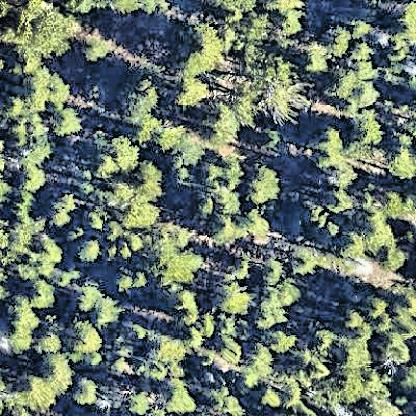tree-top: (98, 154, 172, 229), (245, 52, 303, 124), (15, 0, 80, 60), (172, 14, 226, 74), (247, 308, 291, 374), (64, 326, 105, 395), (153, 235, 206, 288), (115, 75, 163, 125), (1, 297, 43, 352), (249, 283, 296, 330), (311, 121, 353, 172), (201, 99, 245, 145), (244, 161, 286, 209), (214, 275, 258, 319), (148, 328, 192, 368), (102, 134, 143, 176), (328, 371, 386, 400), (66, 317, 106, 358), (50, 103, 90, 143), (297, 37, 335, 78), (44, 189, 81, 231), (352, 254, 394, 290), (77, 25, 117, 62), (25, 70, 66, 106), (336, 336, 376, 372), (133, 159, 166, 202), (171, 72, 209, 109), (379, 185, 416, 223), (12, 369, 47, 409), (163, 376, 199, 414), (245, 340, 277, 379), (359, 212, 391, 250), (379, 53, 409, 93), (40, 351, 74, 386), (171, 291, 200, 330), (393, 0, 416, 48), (390, 142, 416, 184), (208, 0, 262, 20), (193, 187, 228, 217), (6, 208, 31, 249), (216, 184, 248, 216), (246, 209, 275, 244), (27, 278, 58, 310), (70, 376, 99, 410), (383, 332, 412, 365), (352, 113, 379, 148), (215, 390, 250, 416), (330, 64, 356, 98), (72, 282, 100, 313), (34, 235, 60, 268), (75, 234, 104, 263), (150, 125, 181, 152), (207, 157, 238, 184), (36, 327, 65, 355), (270, 328, 299, 356), (383, 247, 411, 276), (363, 292, 390, 322), (20, 164, 50, 191), (173, 140, 203, 167), (113, 266, 144, 292), (94, 292, 119, 323), (117, 387, 145, 414), (338, 306, 363, 336), (340, 226, 364, 256), (274, 12, 300, 39), (308, 358, 334, 385), (7, 122, 30, 152), (125, 319, 151, 345), (5, 93, 32, 118), (348, 37, 373, 64), (310, 324, 333, 353), (259, 383, 285, 408), (123, 229, 149, 254), (294, 247, 318, 274), (103, 0, 139, 18), (11, 265, 40, 287), (304, 201, 327, 227), (326, 191, 350, 215), (264, 0, 302, 15), (259, 258, 282, 282), (107, 356, 132, 378), (352, 79, 374, 103), (395, 363, 416, 388), (0, 168, 14, 204), (104, 221, 123, 245), (397, 318, 416, 340), (0, 25, 17, 46)
